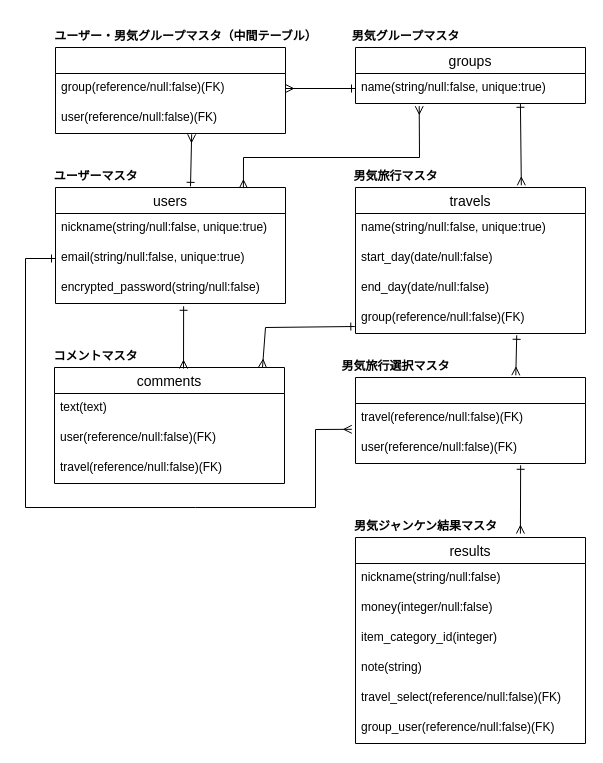
Some shapes in this 603 by 763 pixel diagram are drawn without their labels. Each missing label, with the box of its shape:
group_users: (54, 46, 286, 134)
travel_selects: (354, 376, 586, 464)
